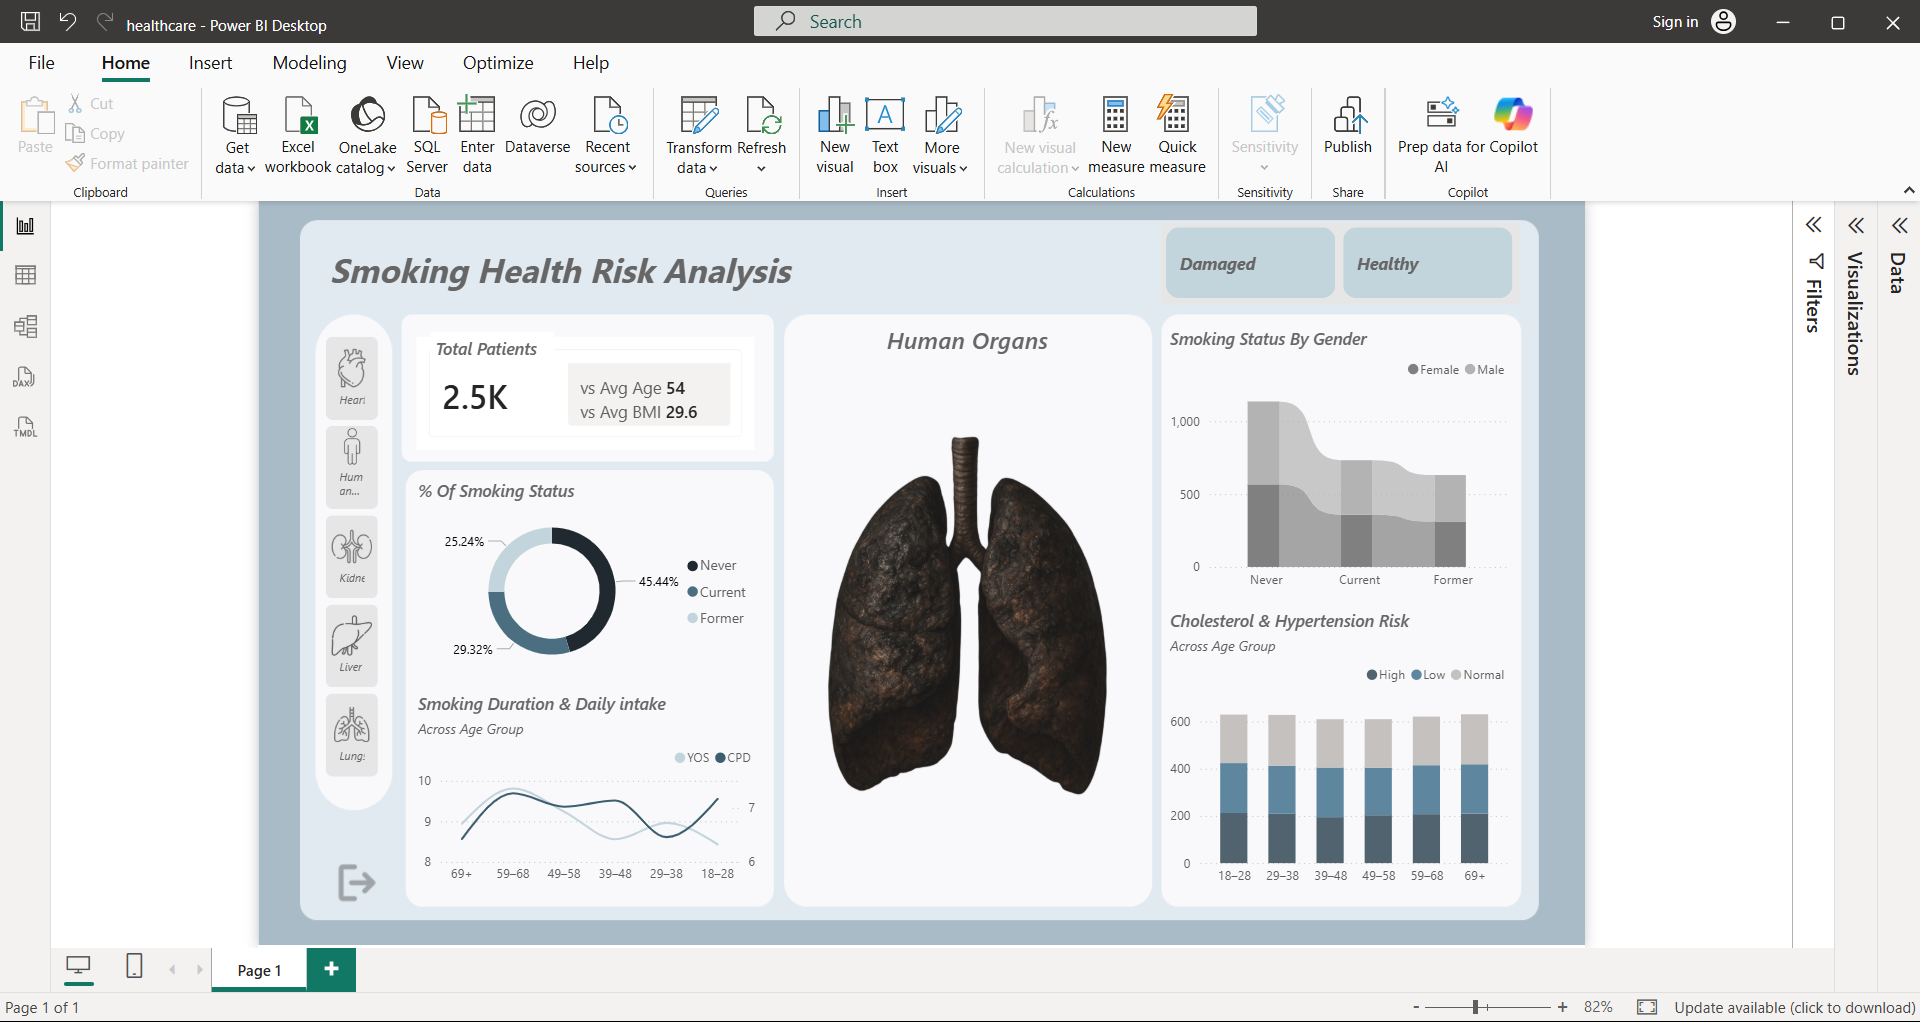

The page's visual inventory and layout, read from the dashboard file:
{"tool":"powerbi","page":{"name":"Page 1","canvas":[1280,720],"ordinal":0},"visuals":[{"type":"cardVisual","fields":{"Data":["CountNonNull(health_dataset.Patient_ID)"]},"box":[148.2,126,336.6,119.1],"z":0},{"type":"textbox","box":[166.2,126,119.1,41.6],"z":1000},{"type":"advancedSlicerVisual","fields":{"Values":["condition.Organ_Condition"]},"box":[871.2,20.6,345.8,78.9],"z":2000},{"type":"advancedSlicerVisual","fields":{"Values":["Organs.Organ"]},"box":[60.9,126,60,438],"z":3000},{"type":"image","title":"Human Organs ","box":[515.7,117.7,337.3,549.6],"z":4000},{"type":"donutChart","title":"% Of Smoking Status","fields":{"Category":["health_dataset.Smoking_Status"],"Y":["CountNonNull(health_dataset.Smoking_Status)"]},"box":[149.2,268.1,336.1,195.3],"z":5000},{"type":"lineChart","title":"Smoking Duration & Daily intake","fields":{"Y":["Avg(health_dataset.Years_of_Smoking)"],"Category":["health_dataset.Age Group"],"Y2":["Avg(health_dataset.Cigarettes_Per_Day)"]},"box":[149.2,473.2,336.1,194.1],"z":6000},{"type":"ribbonChart","title":"Smoking Status By Gender","fields":{"Category":["health_dataset.Smoking_Status"],"Y":["CountNonNull(health_dataset.Patient_ID)"],"Series":["health_dataset.Gender"]},"box":[874.8,121.3,337.3,262.1],"z":7000},{"type":"columnChart","title":"Cholesterol & Hypertension Risk","fields":{"Category":["health_dataset.Age Group"],"Y":["Avg(health_dataset.Cholesterol_Level)"],"Series":["health_dataset.BP_Risk"]},"box":[874.8,393.1,337.3,275.4],"z":8000},{"type":"textbox","box":[64.3,40,506,59.5],"z":9000}]}

Visuals, with their boxes on the page's 1280x720 design canvas (x1, y1, x2, y2). These are canvas units, not pixel positions in the 1920x1022 screenshot, which may show the page scaled, cropped or inside an application window:
cardVisual - CountNonNull(health_dataset.Patient_ID): region(148, 126, 485, 245)
textbox: region(166, 126, 285, 168)
advancedSlicerVisual - condition.Organ_Condition: region(871, 21, 1217, 100)
advancedSlicerVisual - Organs.Organ: region(61, 126, 121, 564)
"Human Organs " image: region(516, 118, 853, 667)
"% Of Smoking Status" donutChart: region(149, 268, 485, 463)
"Smoking Duration & Daily intake" lineChart: region(149, 473, 485, 667)
"Smoking Status By Gender" ribbonChart: region(875, 121, 1212, 383)
"Cholesterol & Hypertension Risk" columnChart: region(875, 393, 1212, 668)
textbox: region(64, 40, 570, 100)
